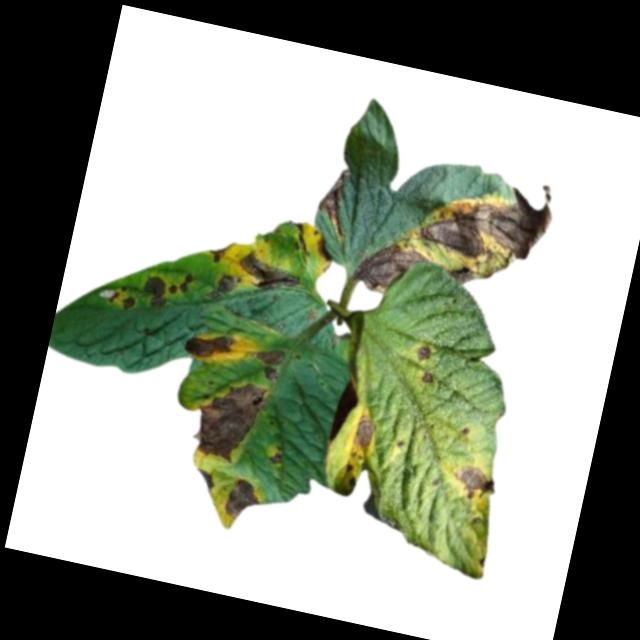Early_blight: (410, 161, 560, 281), (189, 372, 271, 468), (350, 239, 432, 304), (233, 247, 304, 302), (311, 163, 354, 240), (448, 458, 498, 504), (180, 324, 237, 364), (221, 473, 264, 521), (245, 341, 287, 384), (442, 261, 491, 290), (348, 408, 378, 455), (136, 272, 171, 308), (205, 268, 242, 302), (107, 282, 138, 312), (203, 238, 234, 266), (167, 267, 194, 298), (192, 465, 218, 495), (312, 236, 337, 260), (411, 340, 433, 364), (268, 441, 286, 465), (418, 367, 434, 385)
